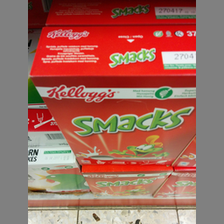cereal: (30, 26, 195, 167)
